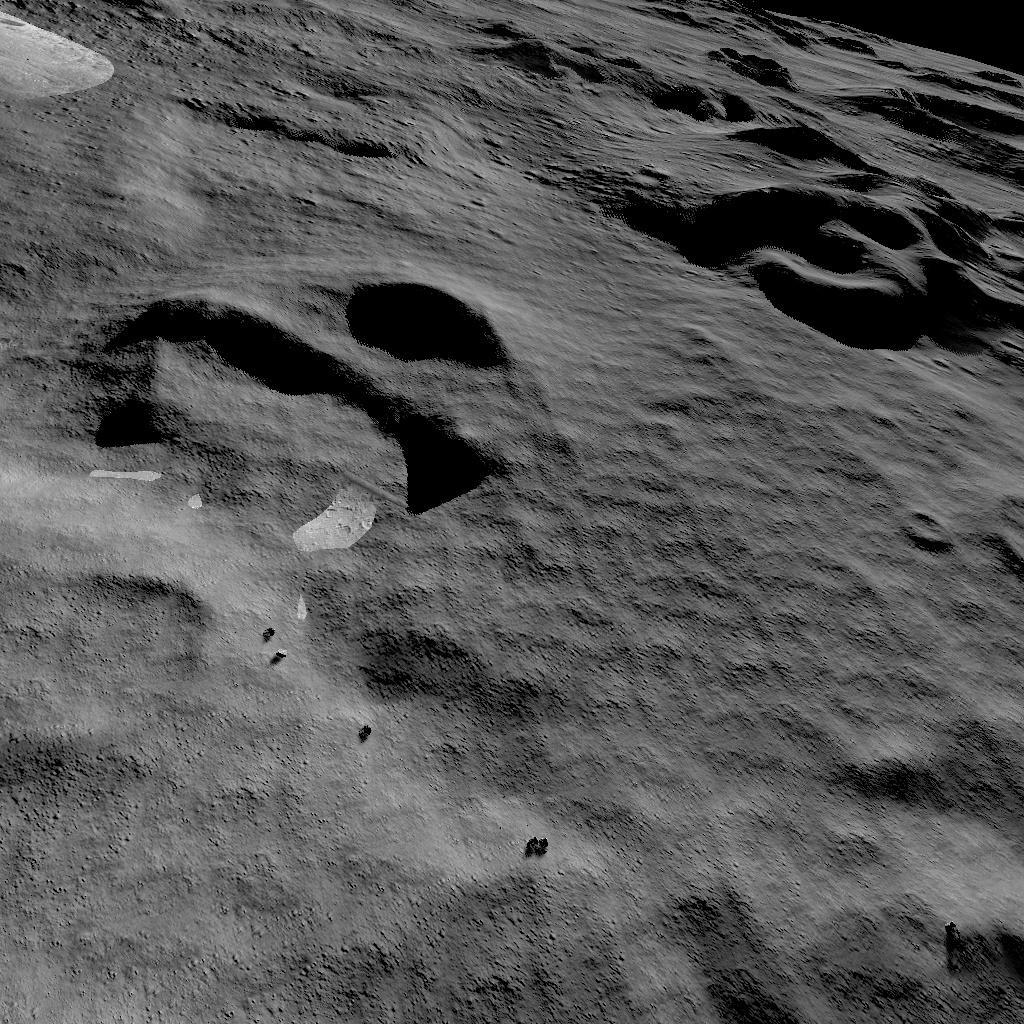Boulders: (0, 10, 135, 126)
Crater: (580, 28, 1024, 354), (89, 263, 517, 546), (0, 562, 233, 790), (879, 488, 957, 562)
Plan surface: (576, 373, 861, 1022), (0, 806, 511, 1024)
